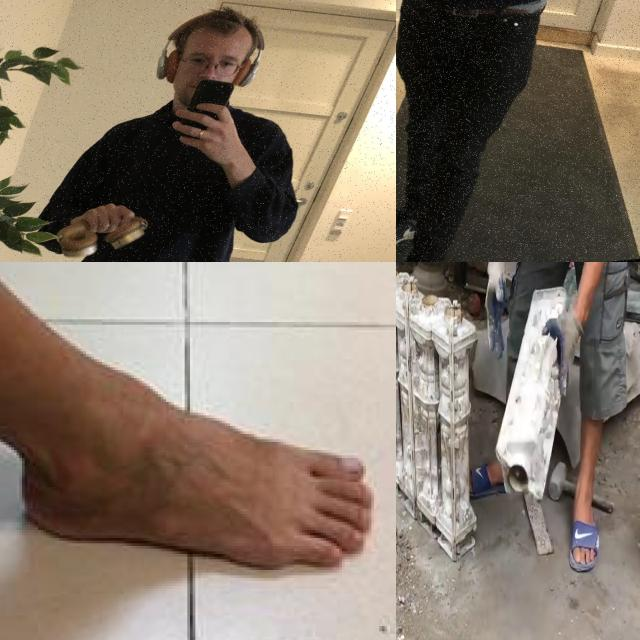Barefoots: (0, 359, 396, 581)
Ear-protection: (134, 40, 290, 90)
Sandals: (569, 480, 601, 570)
glasses: (173, 50, 239, 80)
hand_glove: (542, 300, 586, 400), (484, 262, 510, 360)
head_nohelmet: (155, 5, 274, 60)
person: (14, 0, 309, 262), (396, 0, 634, 262)
